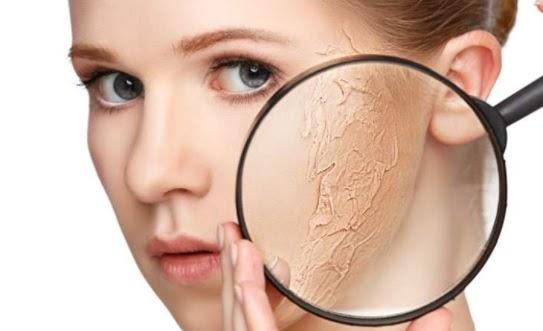Dry-Skin: (280, 34, 424, 331)
